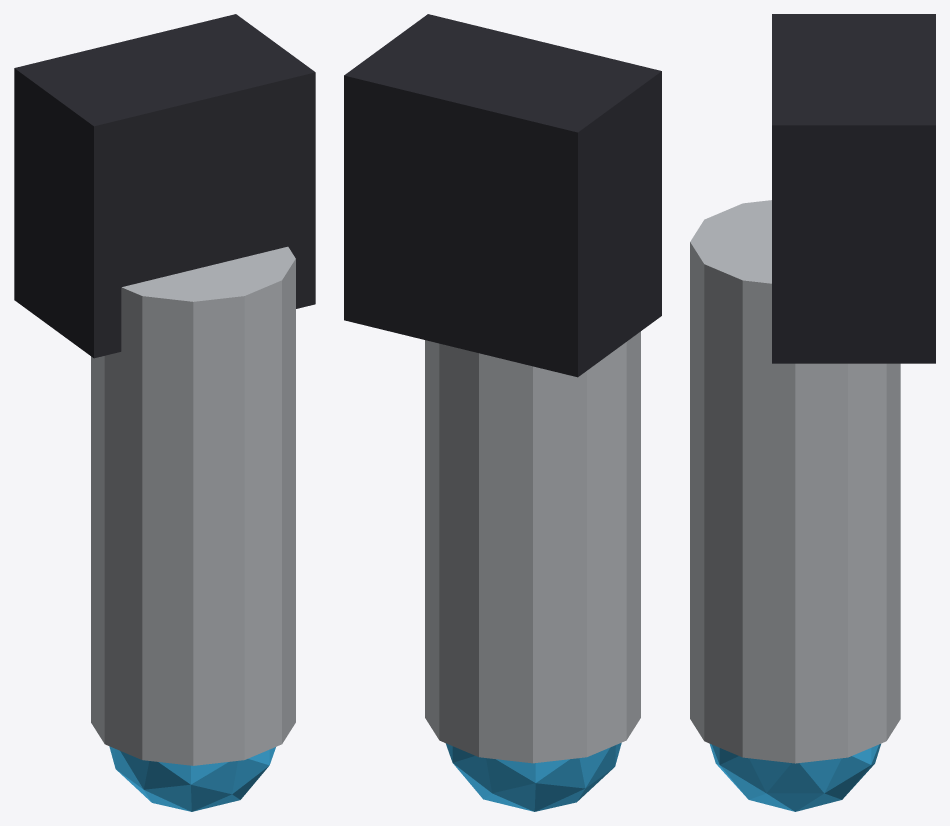
Rendered from plasma_cannon_module.glb.
The picture shows the model from 3 angles, left to right: view 1: azimuth 30°, elevation 25°; view 2: azimuth 150°, elevation 25°; view 3: azimuth 270°, elevation 25°; orthographic projection. The views are drawn at different scales.
Parts seen in each view (by area): view 1: barrel, mount, core; view 2: mount, barrel, core; view 3: barrel, mount, core.
Part boxes in pixels (x1=…): barrel: x1=91, y1=246, x2=295, y2=765; mount: x1=14, y1=14, x2=315, y2=358; core: x1=109, y1=746, x2=275, y2=811; mount: x1=344, y1=14, x2=661, y2=377; barrel: x1=425, y1=331, x2=640, y2=763; core: x1=445, y1=743, x2=621, y2=811; barrel: x1=690, y1=200, x2=900, y2=763; mount: x1=772, y1=14, x2=935, y2=363; core: x1=710, y1=744, x2=880, y2=811.
Size of the model in its own units: 0.45 by 1.38 by 0.42.
